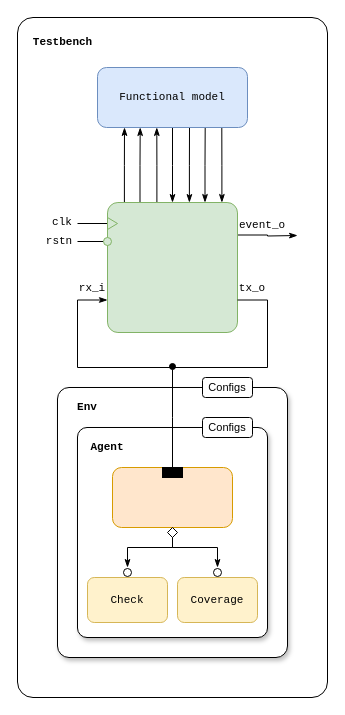
The diagram is 345 pixels wide and 715 high, and some of its shapes have lost their labels. Here are the shapes that lost their labels. From the top down, the centre of each, then its label:
point 172,267: DUT
point 172,497: Monitor
